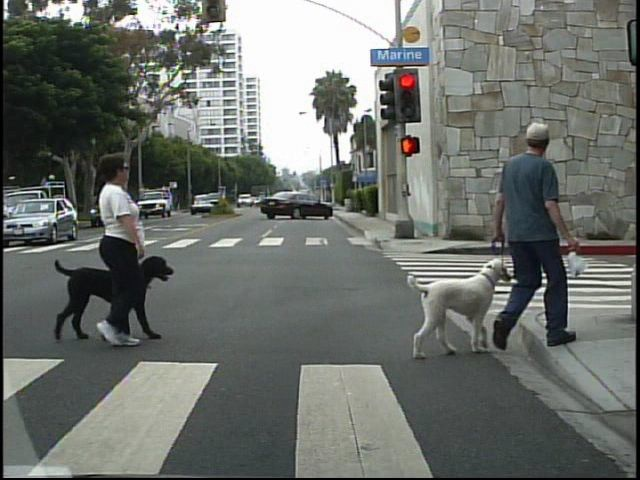person: (473, 116, 594, 361), (75, 147, 163, 351)
